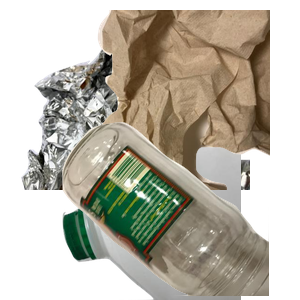glass: (60, 120, 300, 300)
metal: (19, 14, 259, 194)
plastic: (60, 120, 300, 300)
trash: (60, 10, 300, 190)
